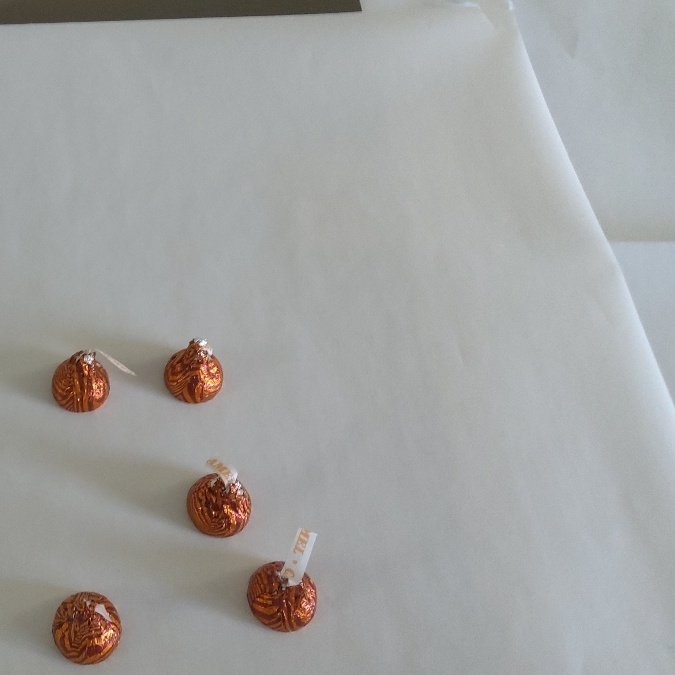chocolate_gold: (186, 467, 249, 535), (249, 561, 312, 629), (55, 594, 118, 662), (165, 346, 222, 407), (54, 351, 110, 411)
